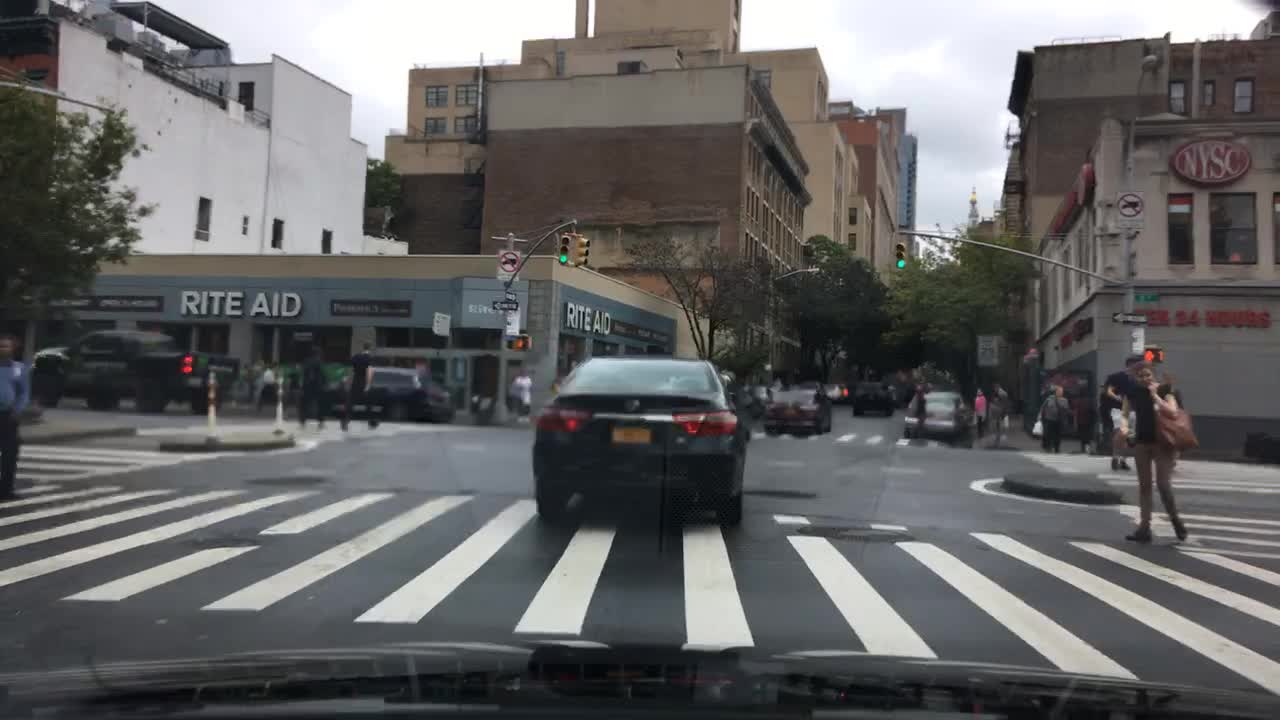car: (531, 355, 751, 530), (333, 366, 459, 425), (760, 378, 832, 437), (902, 389, 964, 440), (851, 380, 895, 416), (750, 381, 774, 417), (827, 383, 850, 402), (890, 383, 907, 405), (845, 383, 856, 399)
person: (1121, 362, 1194, 544), (1101, 352, 1143, 469), (0, 334, 29, 502), (336, 340, 378, 434), (298, 343, 329, 430), (1036, 383, 1072, 452), (470, 351, 500, 430), (1015, 345, 1041, 436), (909, 376, 934, 440), (1075, 385, 1096, 455), (259, 356, 281, 413), (993, 379, 1009, 448), (515, 365, 533, 424), (972, 386, 987, 443), (246, 357, 259, 397), (570, 356, 580, 371)
traffic light: (575, 234, 589, 264), (558, 233, 567, 265), (513, 333, 529, 350), (895, 242, 905, 267), (1146, 350, 1161, 360)
traffic sign: (1118, 192, 1143, 227), (498, 248, 519, 280), (977, 334, 995, 365), (505, 307, 519, 334), (434, 311, 449, 334), (1131, 325, 1143, 352), (1113, 313, 1146, 322), (492, 301, 517, 310), (1136, 293, 1160, 301), (504, 292, 516, 299)
truck: (25, 321, 234, 414)
